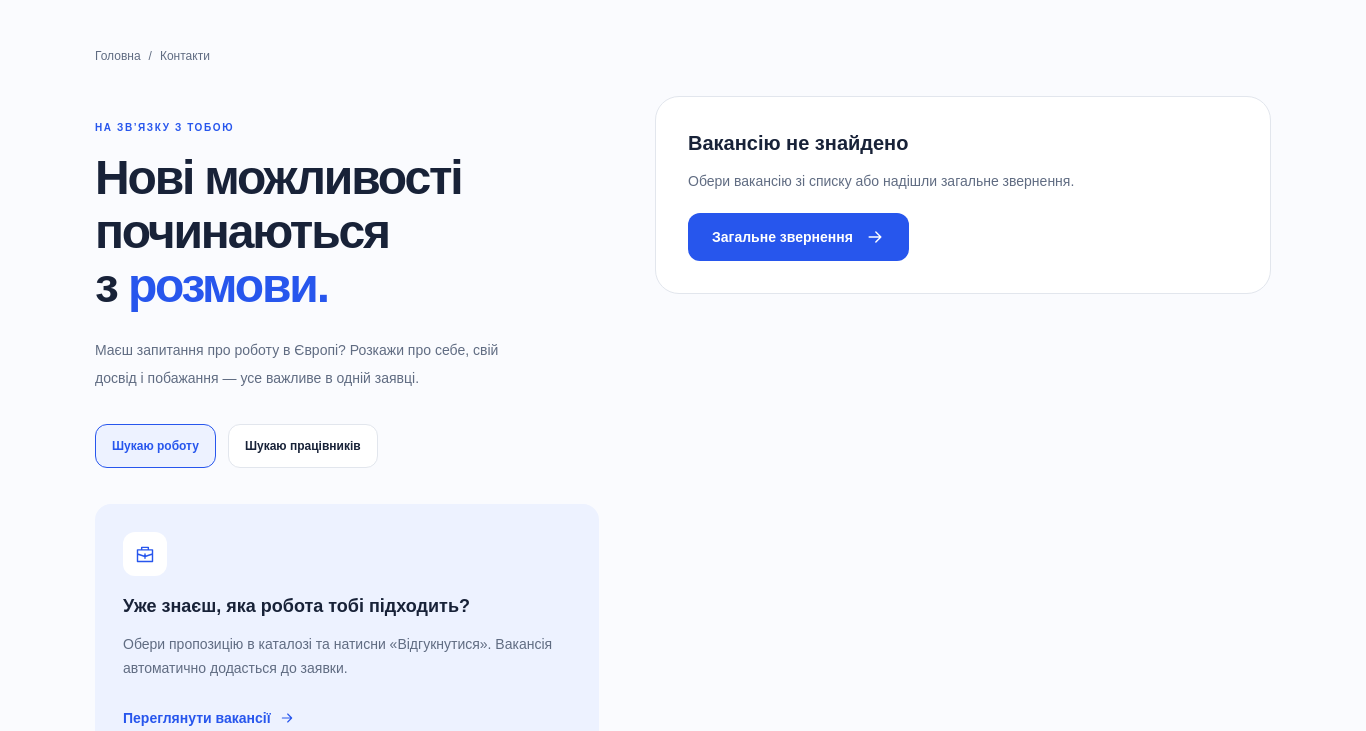
Test: contacts routing › offers a general application for an unknown job
The image size is (1366, 731).
Expected: the heading "Вакансію не знайдено" is shown, [688,132,908,154]
Expected: the field labelled "Ім’я" is not shown
Click the link "Загальне звернення". click: (798, 237)
box: [688,213,909,261]
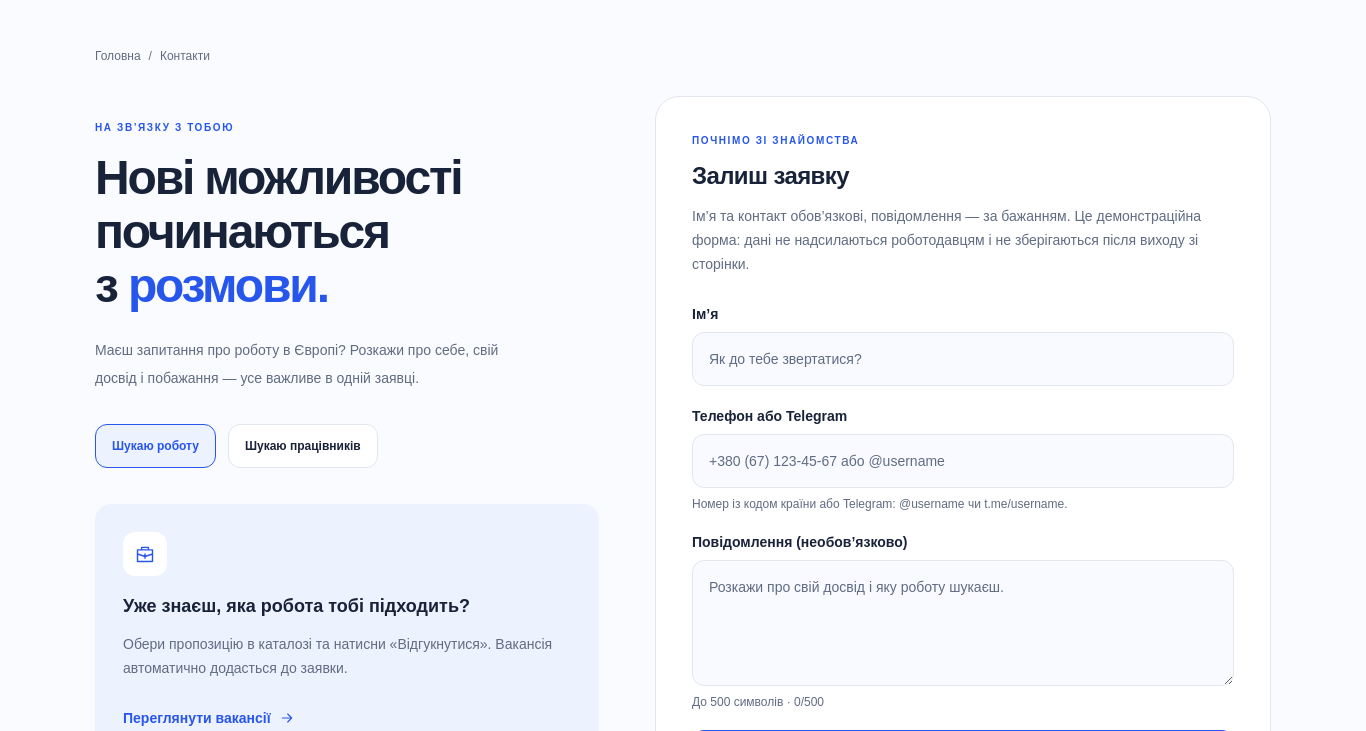
Result: the field labelled "Ім’я" is shown at [692,332,1234,386]
